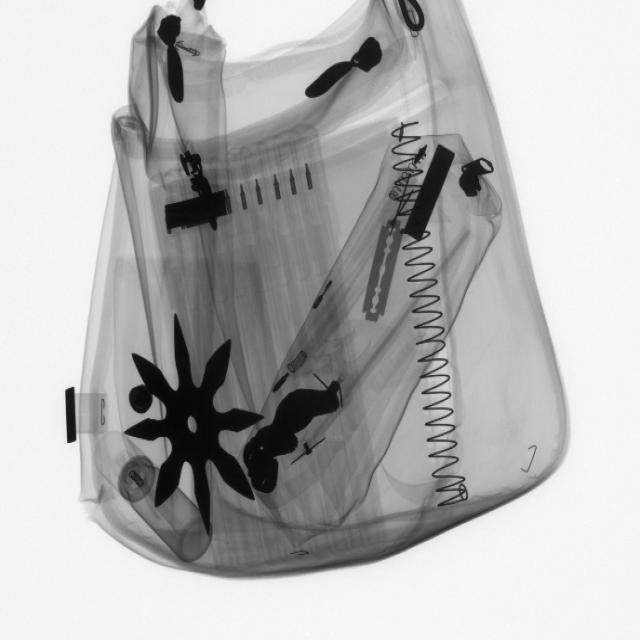BLADE: (357, 214, 407, 331)
SHURIKEN: (125, 312, 262, 535)
